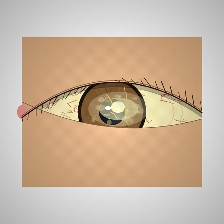corneal_ulcer: (87, 84, 150, 135)
